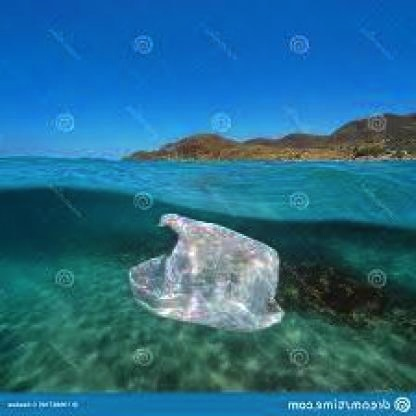pbag: (128, 212, 284, 336)
